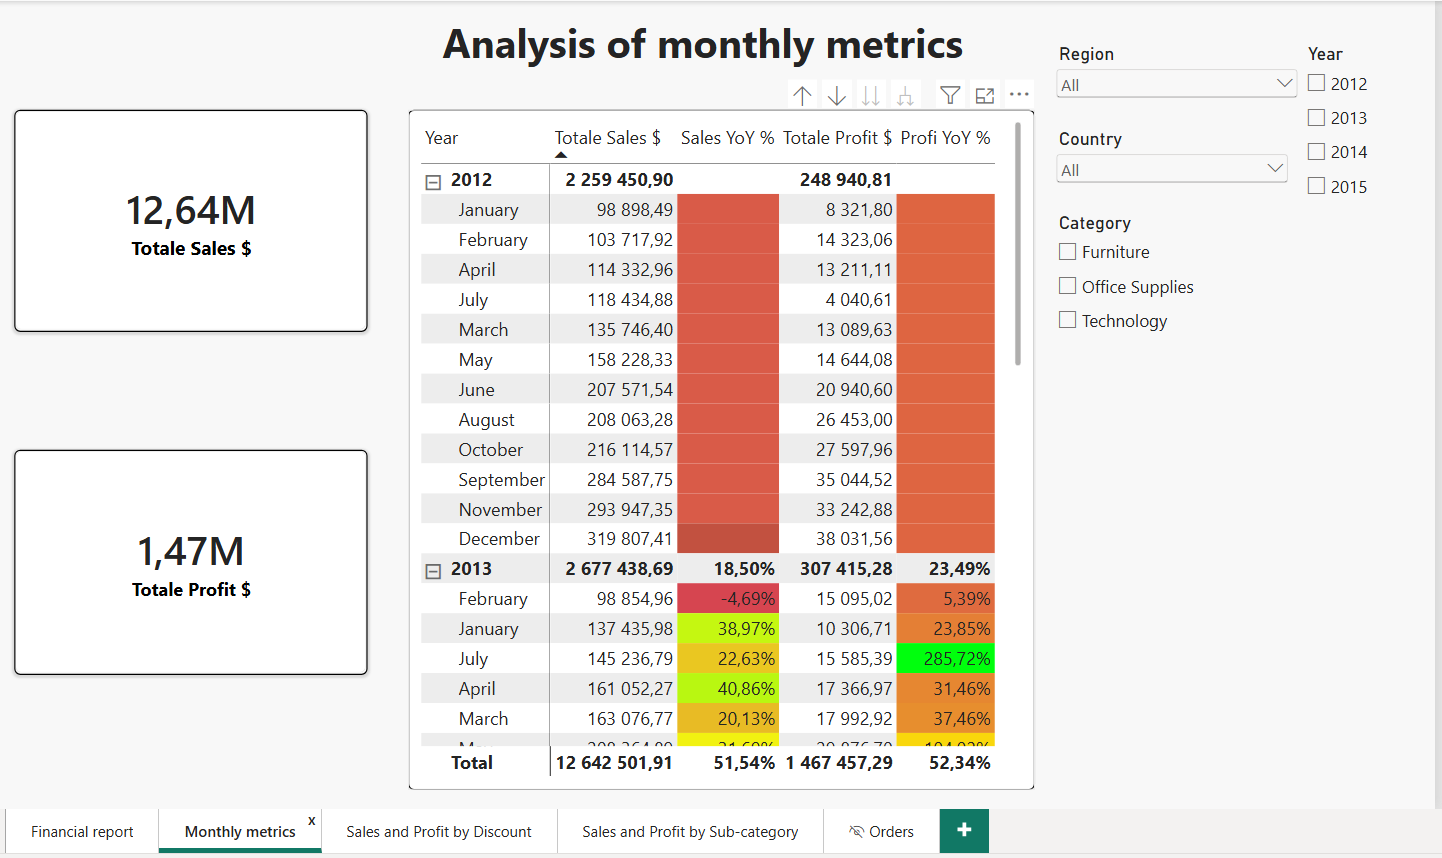

The page's visual inventory and layout, read from the dashboard file:
{"tool":"powerbi","page":{"name":"Monthly metrics","canvas":[1920,1080],"ordinal":1},"visuals":[{"type":"pivotTable","fields":{"Rows":["DimDate.Date.Variation.Date Hierarchy.Year","DimDate.Date.Variation.Date Hierarchy.Month"],"Values":["_measures.Totale Sales $","_measures.Sales YoY %","_measures.Totale Profit $","_measures.Profi YoY %"]},"box":[548.3,144.8,837.9,908.4],"z":0},{"type":"textbox","box":[296.8,18.1,1288.5,74.2],"z":1000},{"type":"cardVisual","fields":{"Data":["_measures.Totale Sales $"]},"box":[21.7,144.8,472.3,296.8],"z":2000},{"type":"cardVisual","fields":{"Data":["_measures.Totale Profit $"]},"box":[21.7,599,472.3,300.4],"z":3000},{"type":"slicer","fields":{"Values":["DimDate.Date.Variation.Date Hierarchy.Year"]},"box":[1740.9,56.1,123.1,226.2],"z":4000},{"type":"slicer","fields":{"Values":["dimAdress.Region"]},"box":[1409.7,56.1,331.2,114],"z":5000},{"type":"slicer","fields":{"Values":["dimAdress.Country Hierarchy.Country"]},"box":[1409.7,170.1,318.5,123.1],"z":6000},{"type":"slicer","fields":{"Values":["dimProduct.Category"]},"box":[1409.7,282.3,204.5,204.5],"z":7000}]}

Visuals, with their boxes on the page's 1920x1080 design canvas (x1, y1, x2, y2). These are canvas units, not pixel positions in the 1442x858 screenshot, which may show the page scaled, cropped or inside an application window:
pivotTable - DimDate.Date.Variation.Date Hierarchy.Year x DimDate.Date.Variation.Date Hierarchy.Month: <region>548, 145, 1386, 1053</region>
textbox: <region>297, 18, 1585, 92</region>
cardVisual - _measures.Totale Sales $: <region>22, 145, 494, 442</region>
cardVisual - _measures.Totale Profit $: <region>22, 599, 494, 899</region>
slicer - DimDate.Date.Variation.Date Hierarchy.Year: <region>1741, 56, 1864, 282</region>
slicer - dimAdress.Region: <region>1410, 56, 1741, 170</region>
slicer - dimAdress.Country Hierarchy.Country: <region>1410, 170, 1728, 293</region>
slicer - dimProduct.Category: <region>1410, 282, 1614, 487</region>
